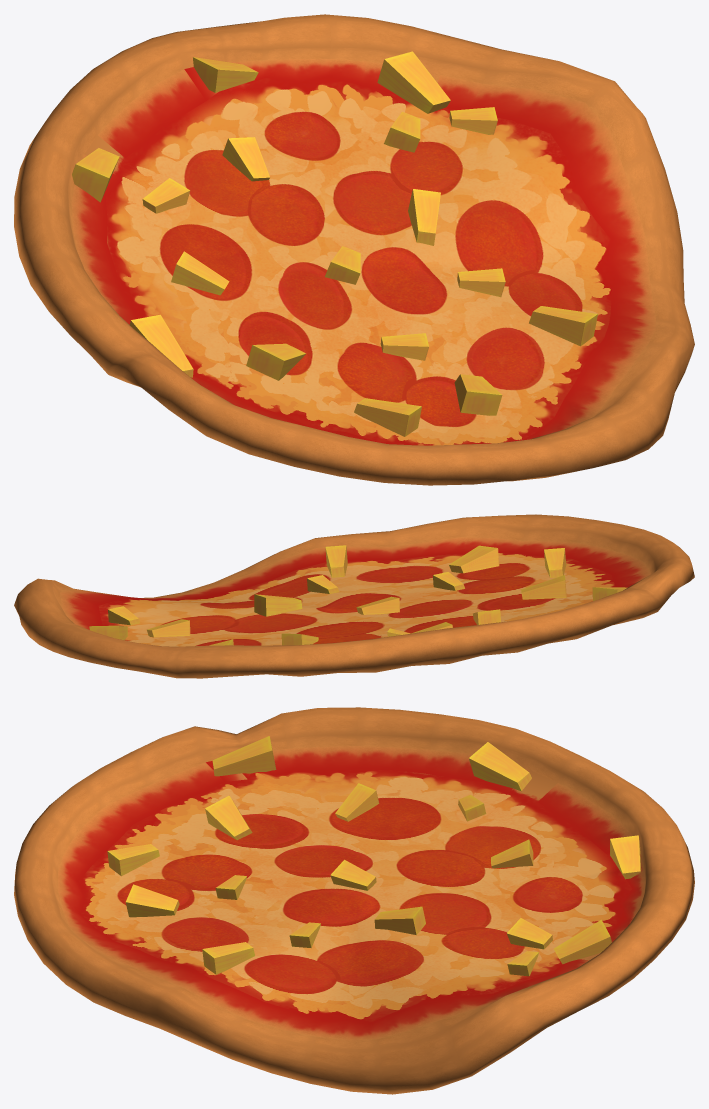
3 renders of one model, top to bottom at view 1: azimuth 30°, elevation 25°; view 2: azimuth 150°, elevation 25°; view 3: azimuth 270°, elevation 25°, orthographic. The views are drawn at different scales.
Parts seen in each view (by area): view 1: pizzahires, pCube10, pCube4, pCube11, pCube18, pCube6, pCube13, pCube3, pCube14, pCube5, pCube2, pCube8 (+6 smaller); view 2: pizzahires, pCube6, pCube5, pCube3, pCube4, pCube9, pCube11, pCube15, pCube16, pCube12, pCube7, pCube10 (+3 smaller); view 3: pizzahires, pCube18, pCube13, pCube10, pCube6, pCube3, pCube4, pCube5, pCube14, pCube11, pCube2, pCube9 (+2 smaller).
Part boxes in pixels (x1,y1,x2,y2): pizzahires: (14,14,694,485); pCube10: (377,51,450,113); pCube4: (529,306,597,346); pCube11: (354,398,421,436); pCube18: (72,148,119,202); pCube6: (454,374,502,415); pCube13: (129,314,193,377); pCube3: (246,343,305,380); pCube14: (193,57,258,92); pCube5: (408,189,440,245); pCube2: (171,251,229,295); pCube8: (222,137,270,181); pizzahires: (14,514,694,678); pCube6: (449,545,499,573); pCube5: (254,594,302,616); pCube3: (521,575,566,599); pCube4: (325,545,347,577); pCube9: (147,619,190,637); pCube11: (544,548,566,577); pCube15: (356,596,399,614); pCube16: (307,575,339,593); pCube12: (108,606,140,625); pCube7: (432,572,464,590); pCube10: (89,625,127,640); pizzahires: (14,707,694,1094); pCube18: (468,742,531,791); pCube13: (212,736,276,776); pCube10: (554,919,611,964); pCube6: (125,884,179,917); pCube3: (205,795,252,840); pCube4: (202,942,254,974); pCube5: (374,906,425,934); pCube14: (610,835,641,879); pCube11: (107,844,159,876); pCube2: (335,783,379,821); pCube9: (506,918,552,949).
Size of the model in its own units: 2.82 by 0.7725 by 2.99.
2 materials, 2 textured.
